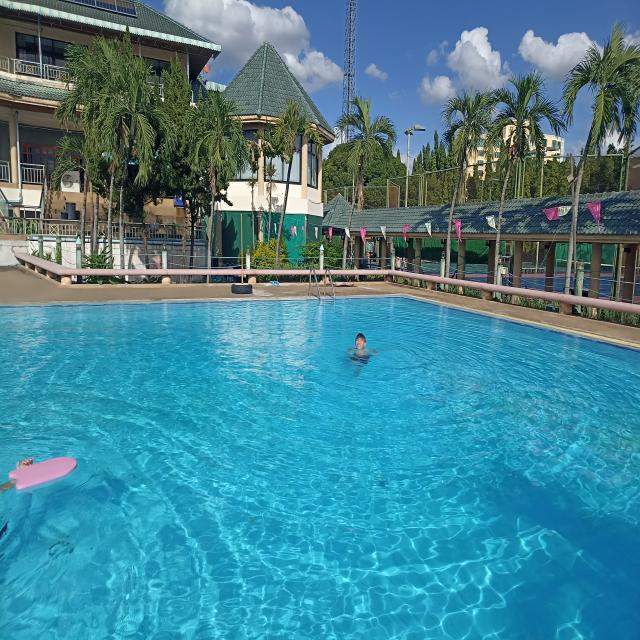Swimming: (342, 328, 382, 369)
